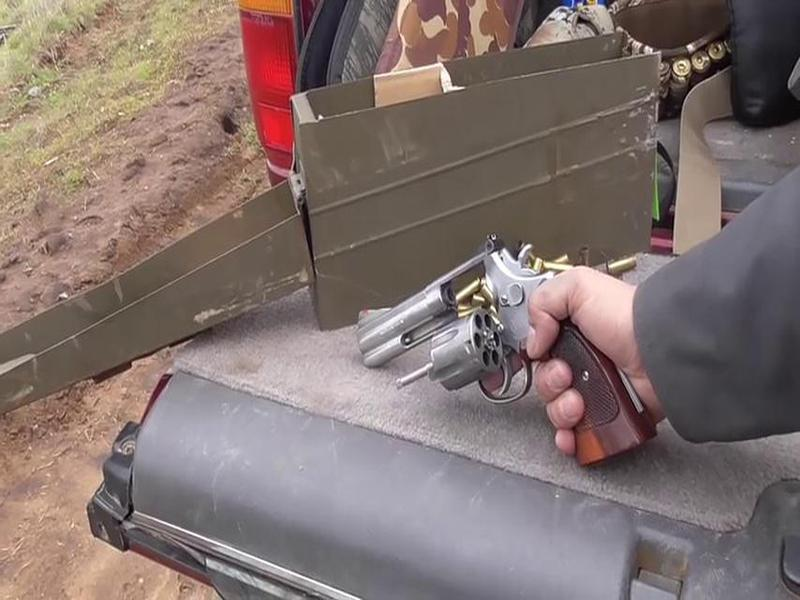Revolver: (357, 216, 642, 512)
